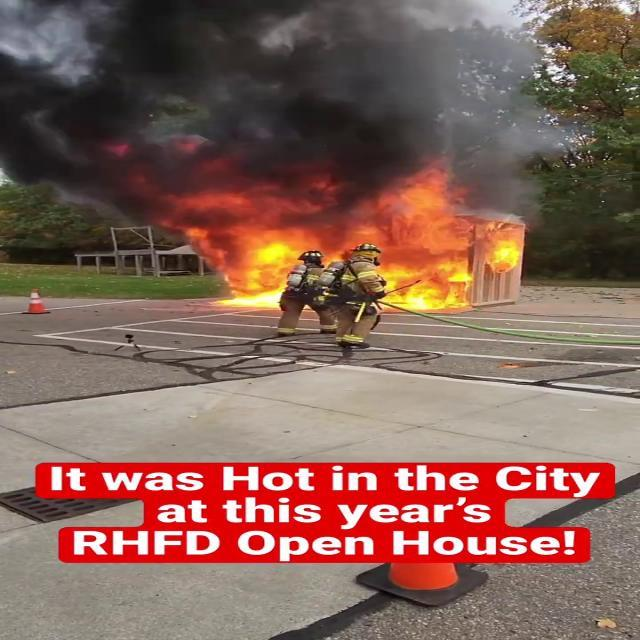Fire: (152, 186, 524, 319)
Smoke: (0, 0, 603, 212)
